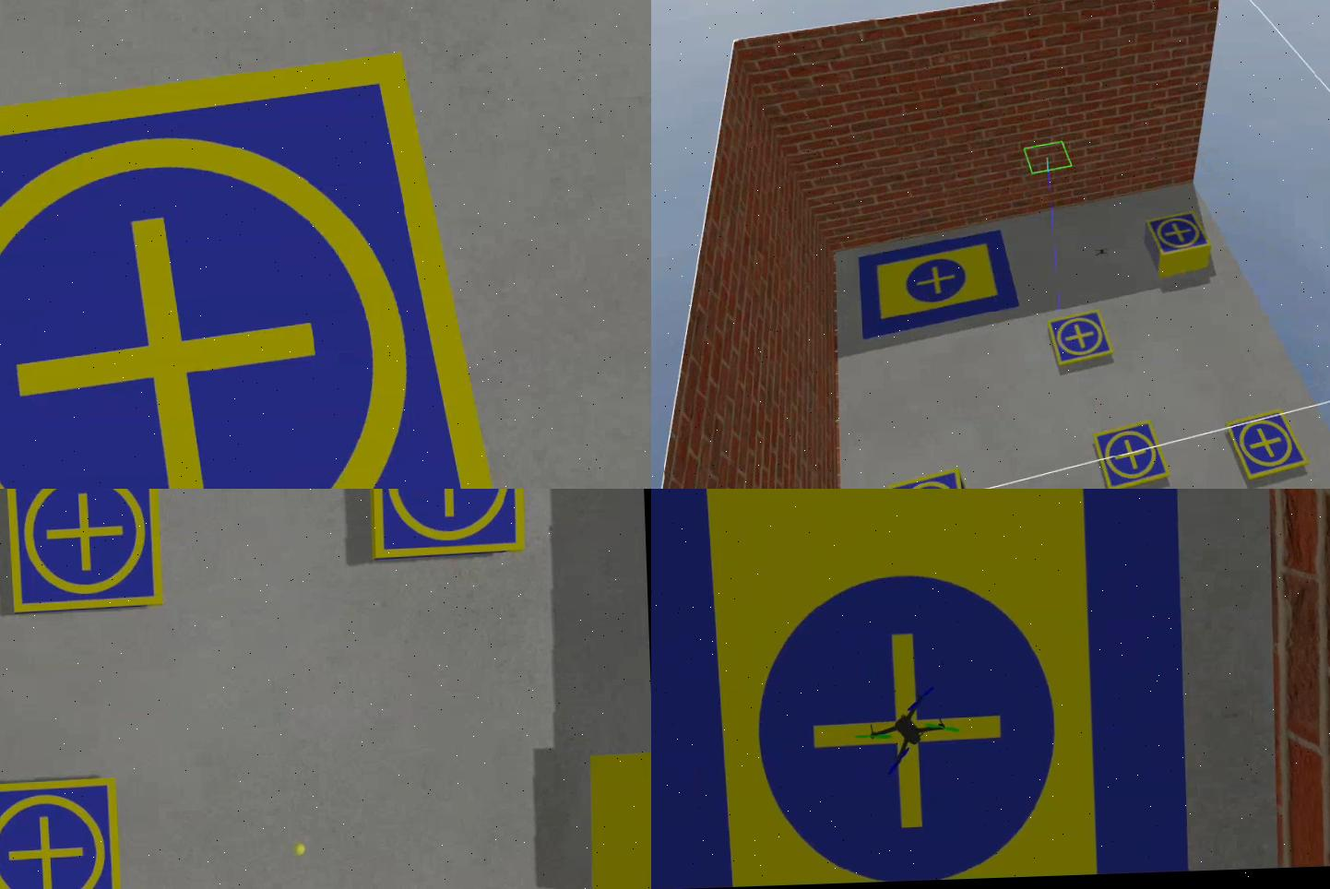large_base: (652, 490, 1189, 889), (861, 231, 1023, 340)
small_base: (1, 49, 523, 490), (6, 490, 167, 616), (1, 777, 127, 889), (367, 490, 530, 560), (1228, 409, 1311, 485), (1094, 421, 1172, 490), (1048, 311, 1116, 369), (1146, 212, 1214, 259), (888, 469, 973, 490)
